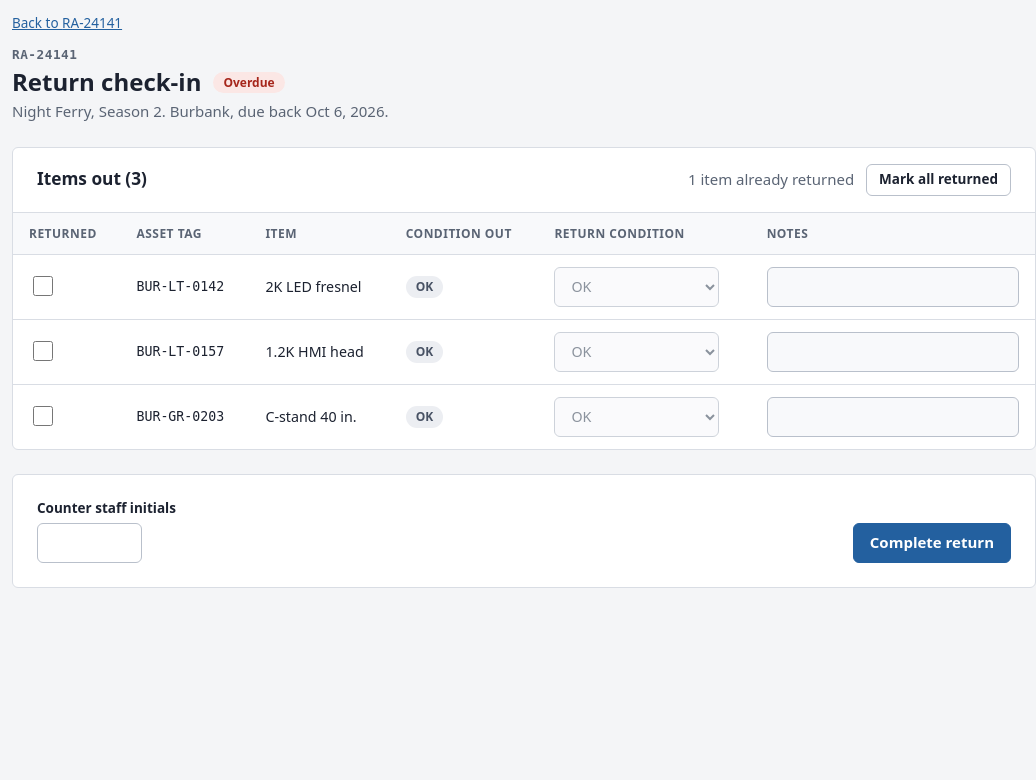
Scenario: ReturnCheckIn › needs a note for an item returned Damaged
Click the checkbox named "Returned BUR-LT-0157": coordinates (43, 351) [33, 341, 53, 361]
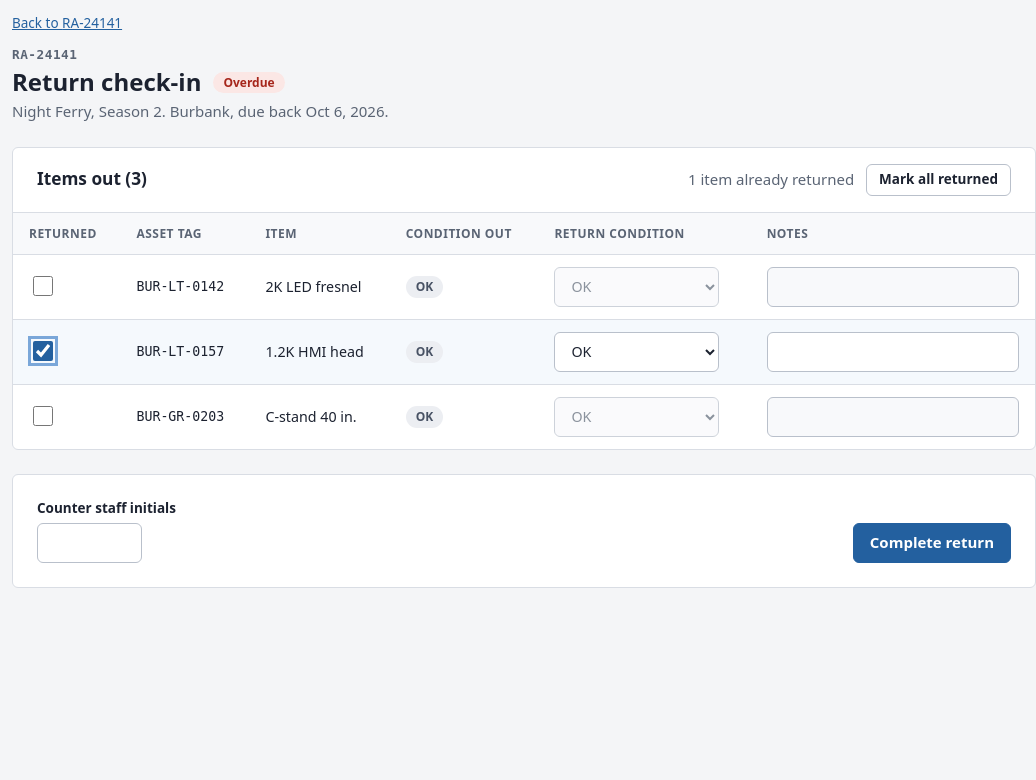
Select "Damaged" in the dropdown named "Return condition for BUR-LT-0157": coordinates (637, 352) [554, 332, 720, 372]
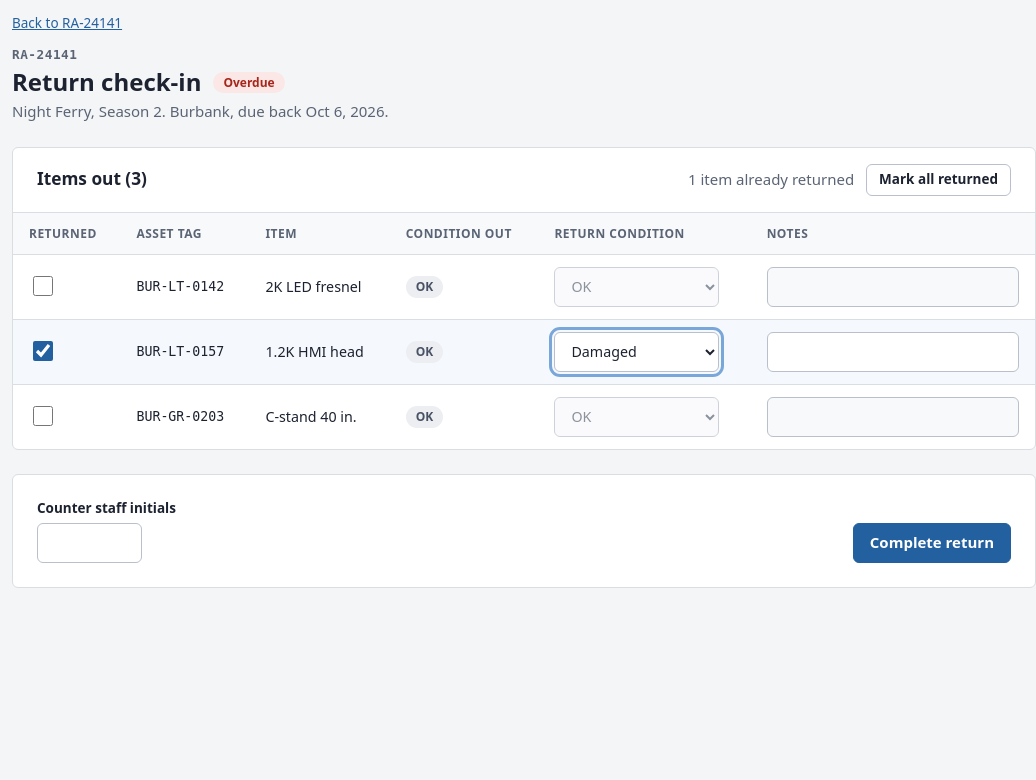
In the field labelled "Counter staff initials": coordinates (90, 542) [37, 522, 142, 562], type "of"
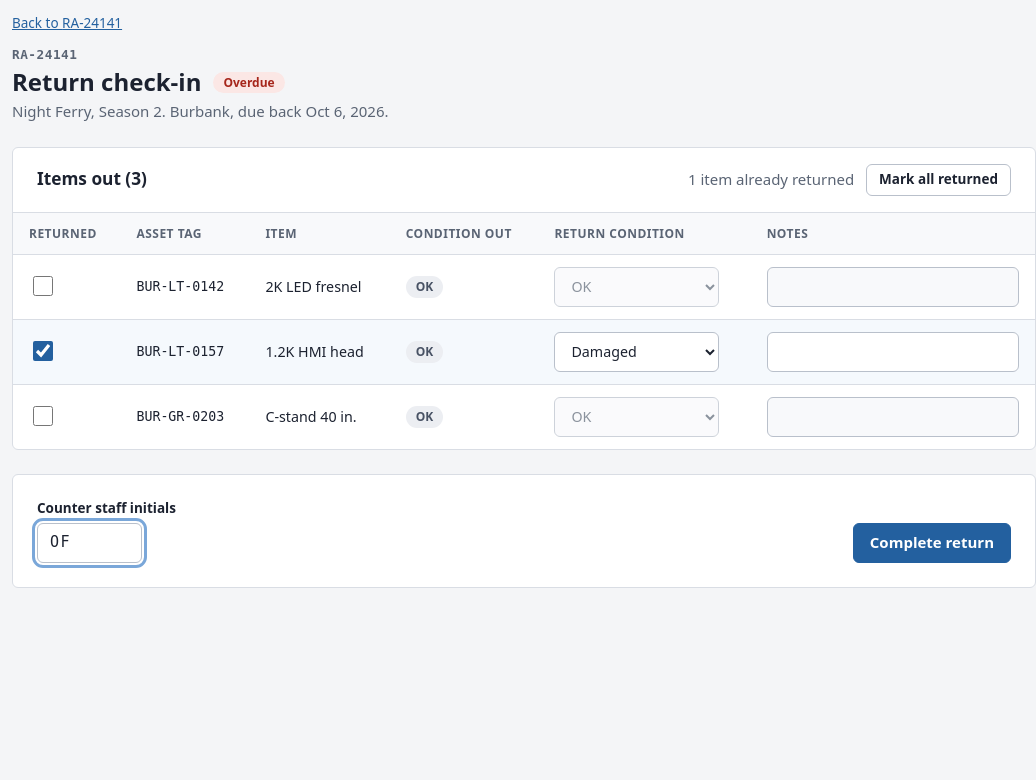
Click the button "Complete return": coordinates (932, 542) [853, 522, 1011, 562]
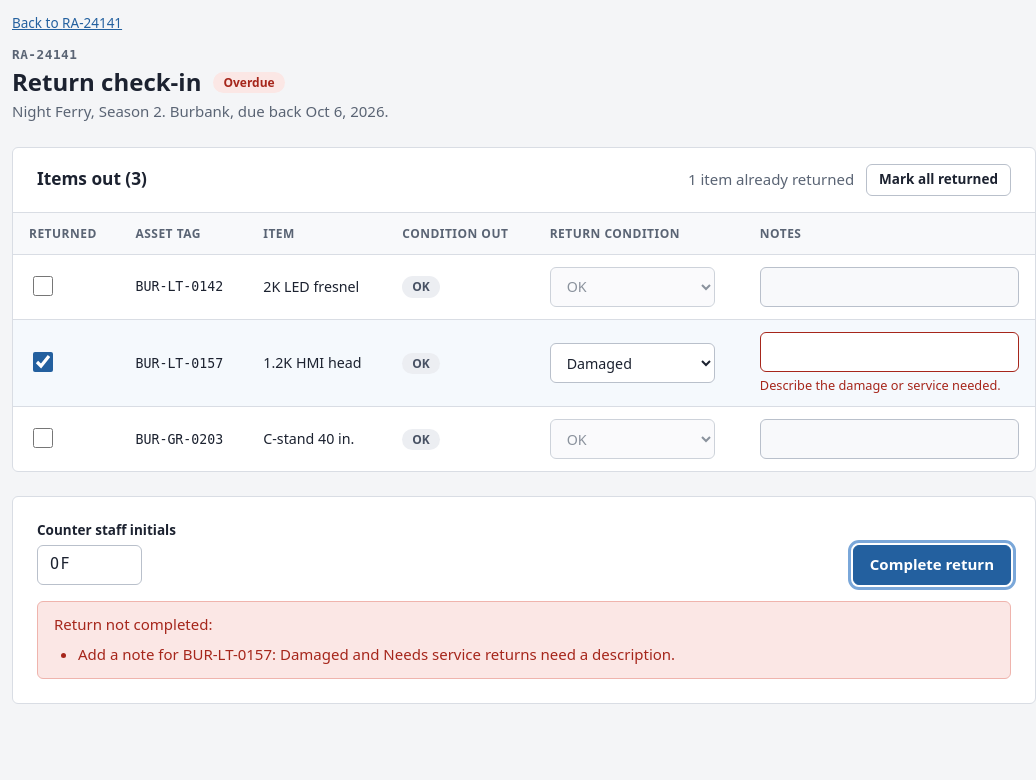
Expected: the heading "Return check-in" is shown, [12, 68, 201, 97]
Result: the message shows "Add a note for BUR-LT-0157" at [78, 644, 675, 664]
